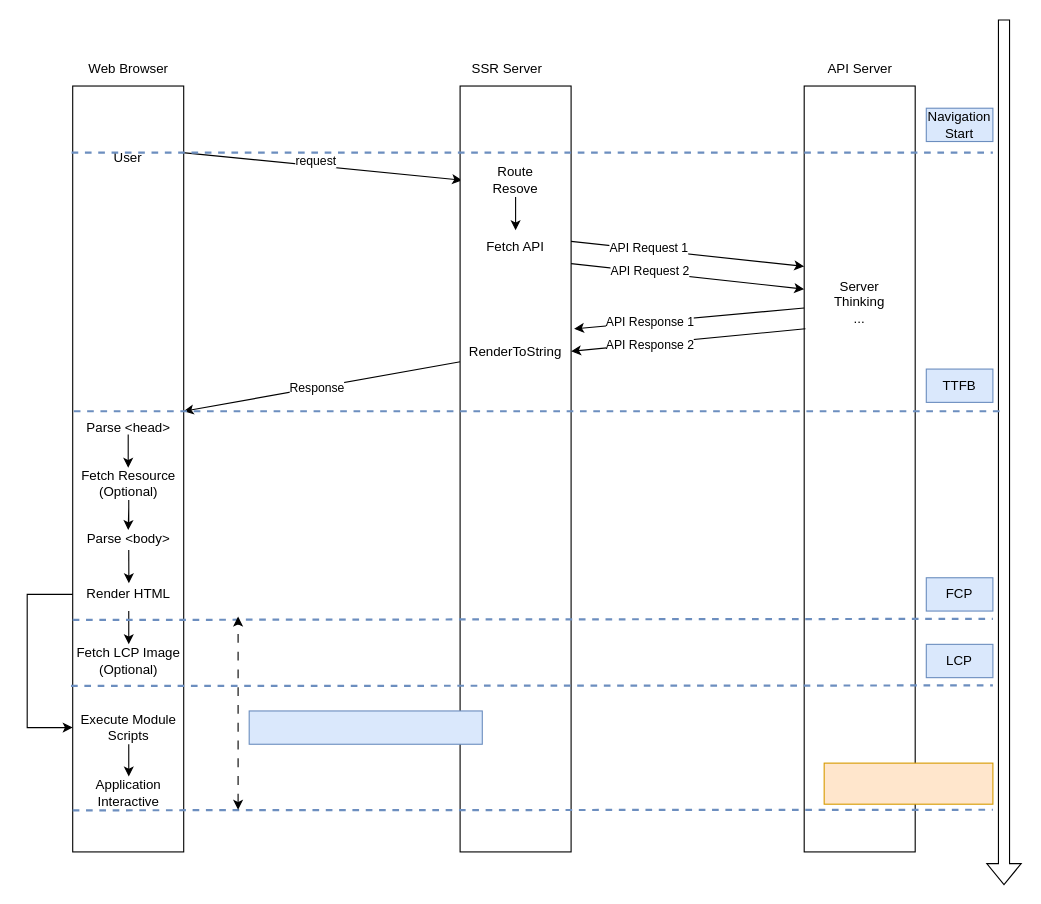
This 1041x904 diagram has some shape labels left out. Here are the shapes that lost their labels. From the top down, the centre of each, then its label:
point 365,727: TBT = Timing - LongTaskNum * 50ms
point 908,783: DOMContentLoaded
